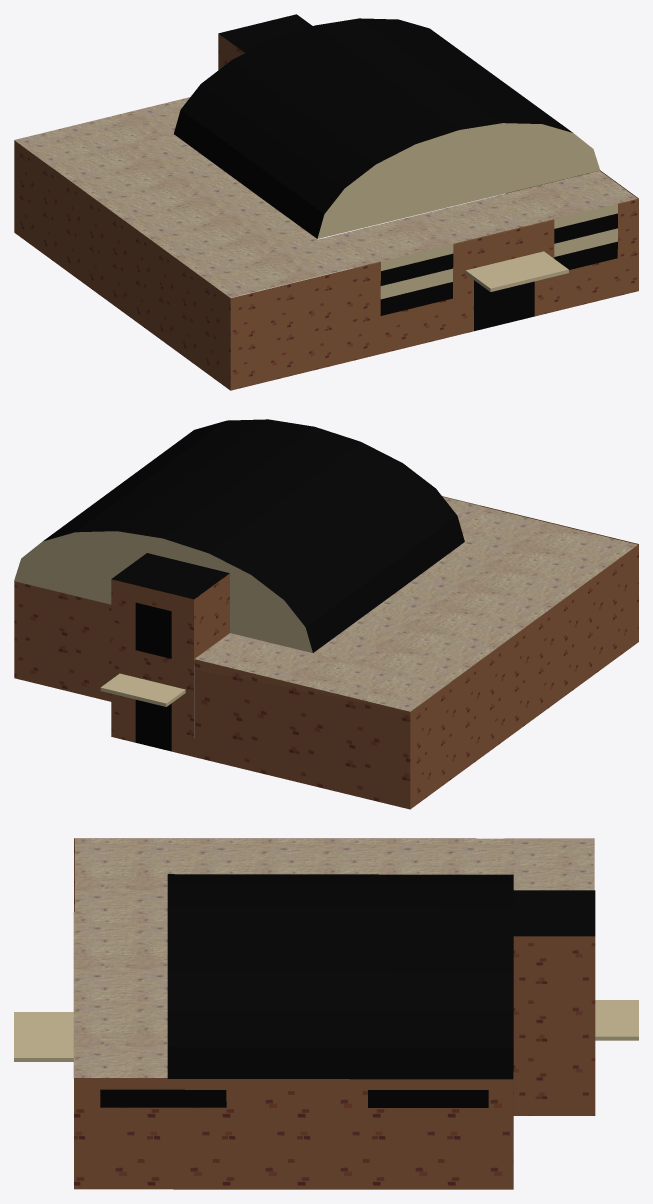
The model's file is tyler.obj.
3 renders of one model, top to bottom at view 1: azimuth 30°, elevation 25°; view 2: azimuth 150°, elevation 25°; view 3: azimuth 270°, elevation 25°, orthographic. The views are drawn at different scales.
Visible parts, largest first — view 1: Cylinder; view 2: Cylinder; view 3: Cylinder.
Boxes of the visible parts, x1,y1,x2,y2 form: Cylinder: (14, 14, 638, 390); Cylinder: (14, 419, 638, 809); Cylinder: (14, 838, 638, 1189).
Bounding box in the file's own units: 5.74 × 2.24 × 6.31.
5 materials, 4 textured.
